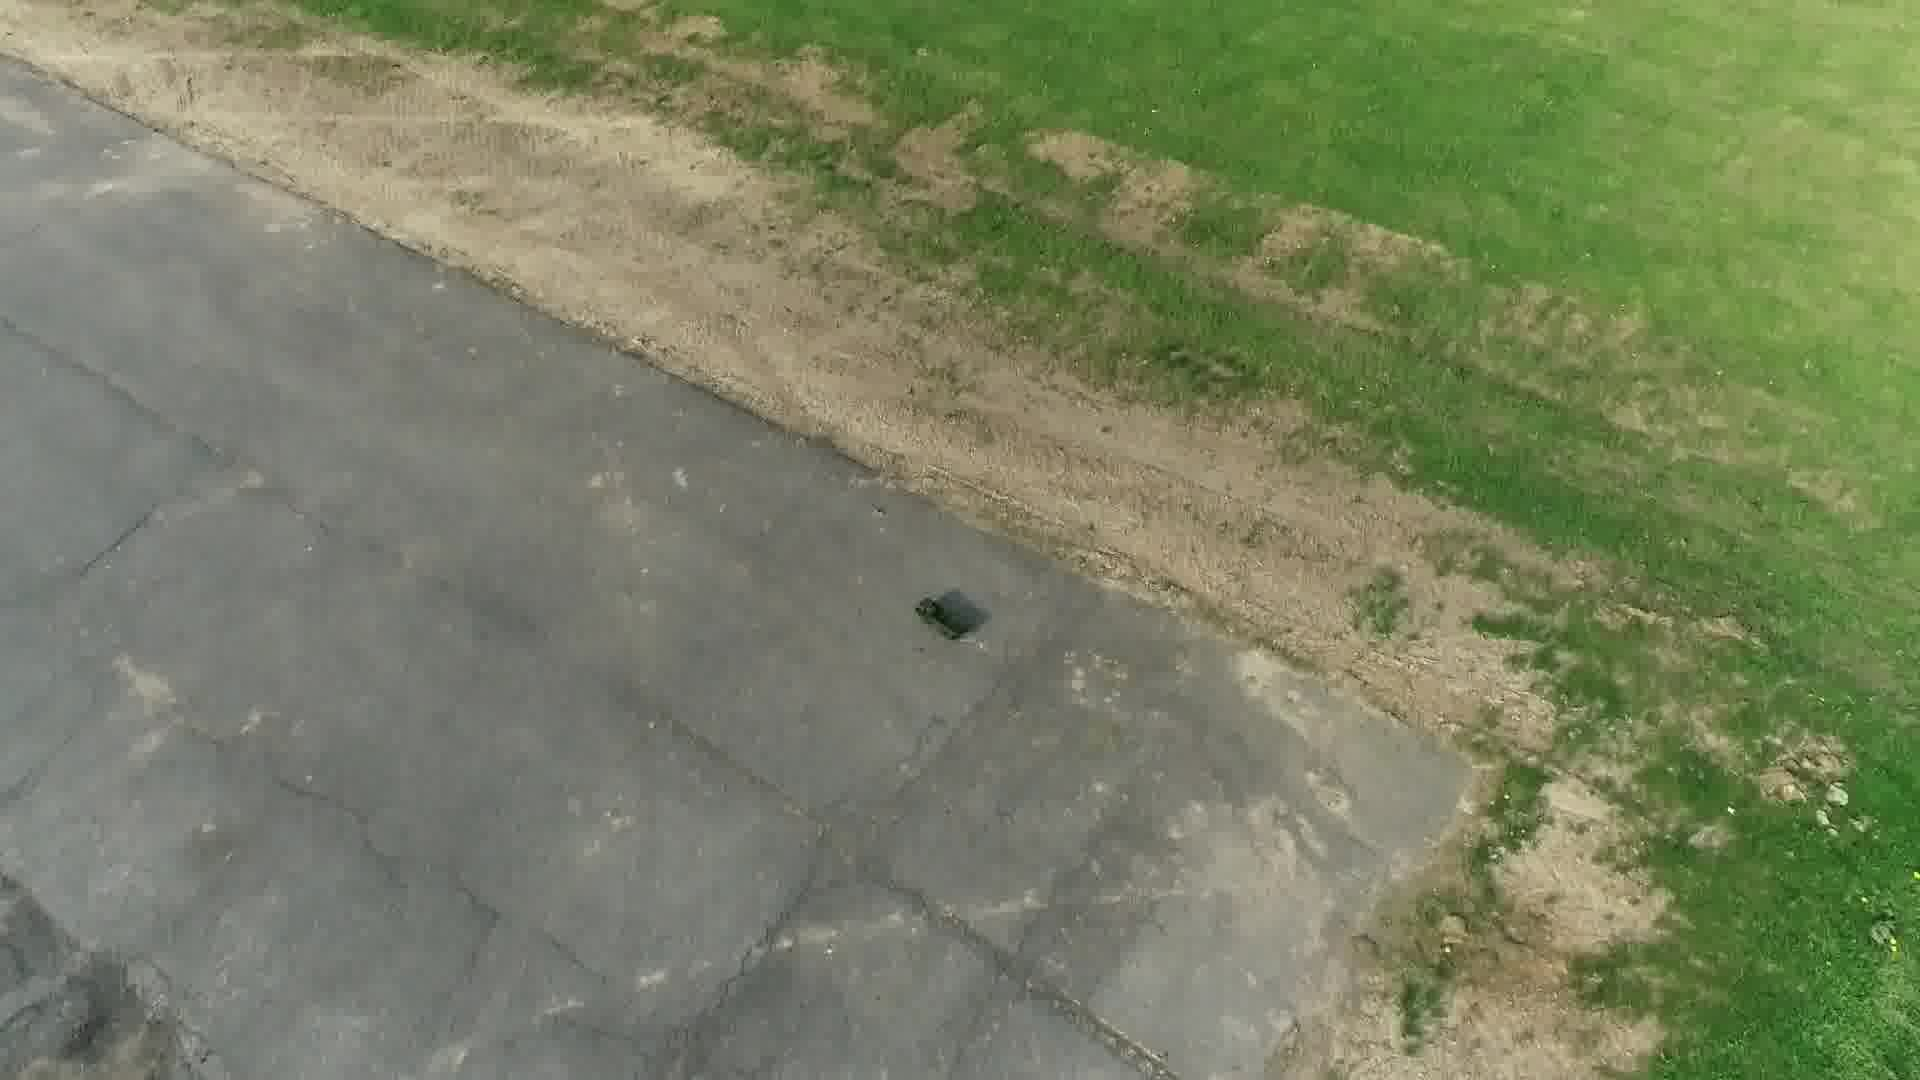transporter9: (910, 596, 975, 644)
